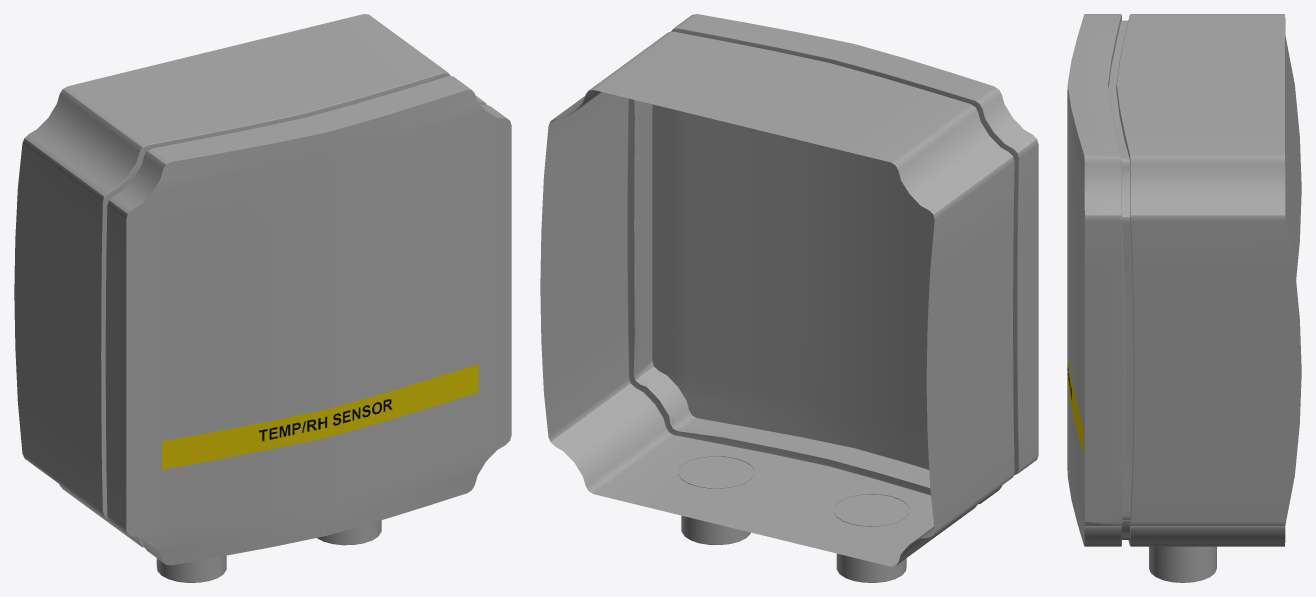
The model's file is TEMPRH SENSOR.fbx.
The picture shows the model from 3 angles, left to right: view 1: azimuth 30°, elevation 25°; view 2: azimuth 150°, elevation 25°; view 3: azimuth 270°, elevation 25°; orthographic projection. The views are drawn at different scales.
Visible parts, largest first — view 1: polySurface48, polySurface49, pCylinder25, pCylinder26; view 2: polySurface48, pCylinder25, pCylinder26; view 3: polySurface48, pCylinder26, polySurface49.
Boxes of the visible parts, x1,y1,x2,y2 form: polySurface48: (14,14,511,565); polySurface49: (162,364,478,469); pCylinder25: (156,555,226,582); pCylinder26: (317,520,381,545); polySurface48: (540,14,1038,566); pCylinder25: (833,494,909,582); pCylinder26: (678,456,754,544); polySurface48: (1067,14,1301,546); pCylinder26: (1149,546,1216,582); polySurface49: (1067,355,1083,455).
Size of the model in its own units: 50 by 57.18 by 27.18.
